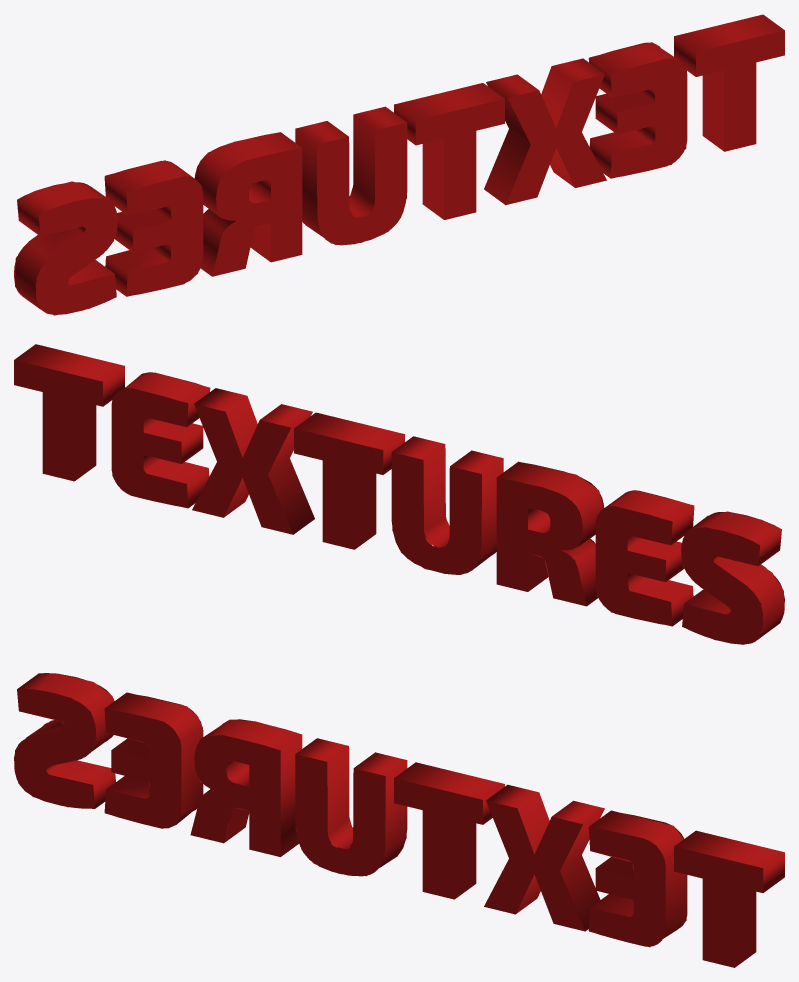
File: textures.fbx
The picture shows the model from 3 angles, top to bottom: view 1: azimuth 30°, elevation 25°; view 2: azimuth 150°, elevation 25°; view 3: azimuth 330°, elevation 25°; orthographic projection.
Parts seen in each view (by area): view 1: Text; view 2: Text; view 3: Text.
Part boxes in pixels (x1,y1,x2,y2): Text: [14, 14, 784, 315]; Text: [14, 344, 784, 644]; Text: [14, 673, 784, 967].
Size of the model in its own units: 15.88 by 2.26 by 0.8.
